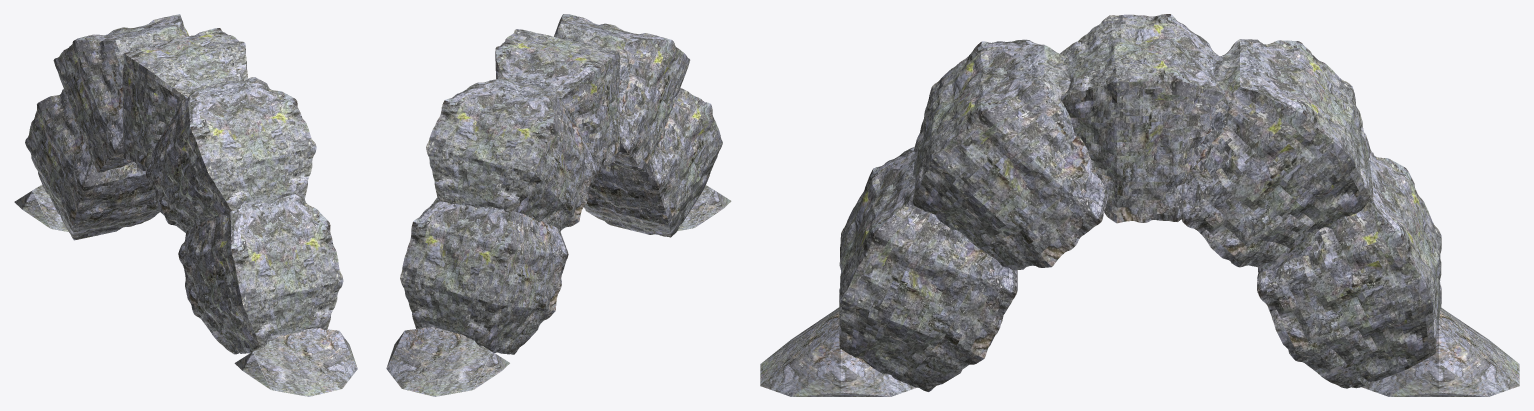
Rendered from RockTowerBarrier.fbx.
3 renders of one model, left to right at view 1: azimuth 30°, elevation 25°; view 2: azimuth 150°, elevation 25°; view 3: azimuth 270°, elevation 25°, orthographic. The views are drawn at different scales.
Visible parts, largest first — view 1: rock.005; view 2: rock.005; view 3: rock.005.
Boxes of the visible parts, x1,y1,x2,y2 form: rock.005: [14, 14, 357, 396]; rock.005: [386, 14, 731, 396]; rock.005: [760, 14, 1519, 396].
Bounding box in the file's own units: 3.11 × 6.47 × 13.56.
